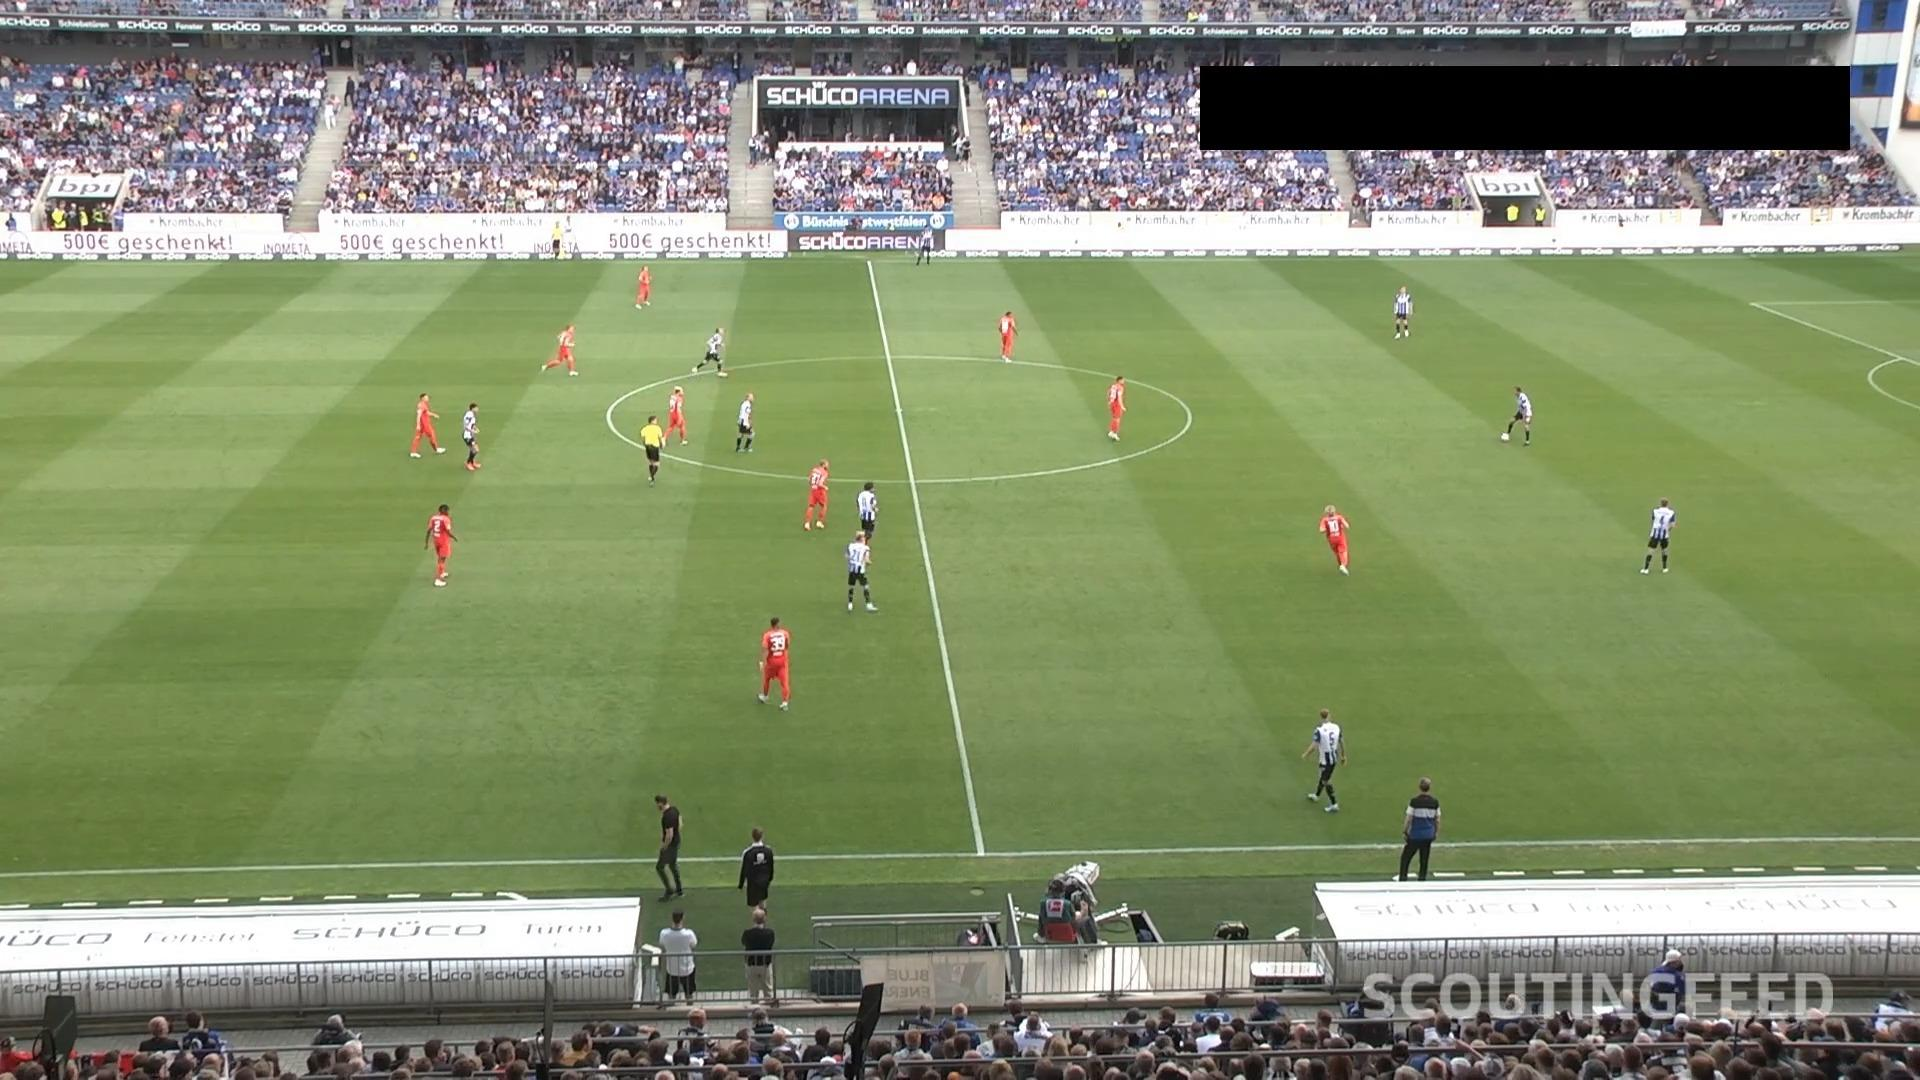ball: (1499, 431, 1511, 443)
